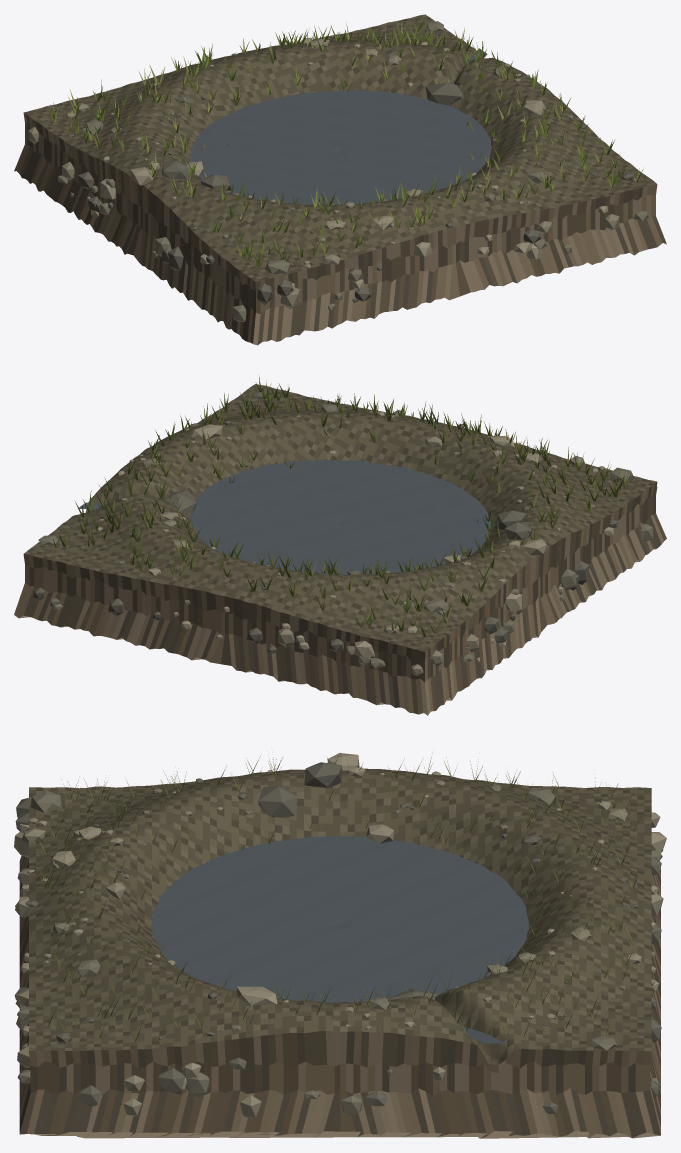
File: 02_积水草地.glb
3 renders of one model, top to bottom at view 1: azimuth 30°, elevation 25°; view 2: azimuth 150°, elevation 25°; view 3: azimuth 270°, elevation 25°, orthographic. The views are drawn at different scales.
Parts seen in each view (by area): view 1: 地表_可编辑网格, 土层剖面_闭合侧壁, 中央浅水面, 稀疏青草_独立几何, 石砾_153; view 2: 地表_可编辑网格, 土层剖面_闭合侧壁, 中央浅水面, 稀疏青草_独立几何, 石砾_153; view 3: 地表_可编辑网格, 土层剖面_闭合侧壁, 中央浅水面, 稀疏青草_独立几何, 石砾_067, 石砾_007, 石砾_137.
Part boxes in pixels (left/top/right/bottom): 地表_可编辑网格: left=24, top=14, right=656, bottom=281; 土层剖面_闭合侧壁: left=14, top=113, right=666, bottom=345; 中央浅水面: left=190, top=90, right=491, bottom=204; 稀疏青草_独立几何: left=49, top=18, right=642, bottom=267; 石砾_153: left=426, top=82, right=463, bottom=105; 地表_可编辑网格: left=24, top=384, right=656, bottom=651; 土层剖面_闭合侧壁: left=14, top=482, right=666, bottom=715; 中央浅水面: left=189, top=460, right=490, bottom=574; 稀疏青草_独立几何: left=53, top=377, right=631, bottom=636; 石砾_153: left=163, top=490, right=196, bottom=515; 地表_可编辑网格: left=29, top=768, right=651, bottom=1065; 土层剖面_闭合侧壁: left=19, top=855, right=660, bottom=1138; 中央浅水面: left=151, top=836, right=528, bottom=1002; 稀疏青草_独立几何: left=36, top=756, right=638, bottom=1042; 石砾_067: left=258, top=786, right=297, bottom=817; 石砾_007: left=304, top=762, right=341, bottom=788; 石砾_137: left=237, top=986, right=277, bottom=1005.
Size of the model in its own units: 5.23 by 1.21 by 5.24.
